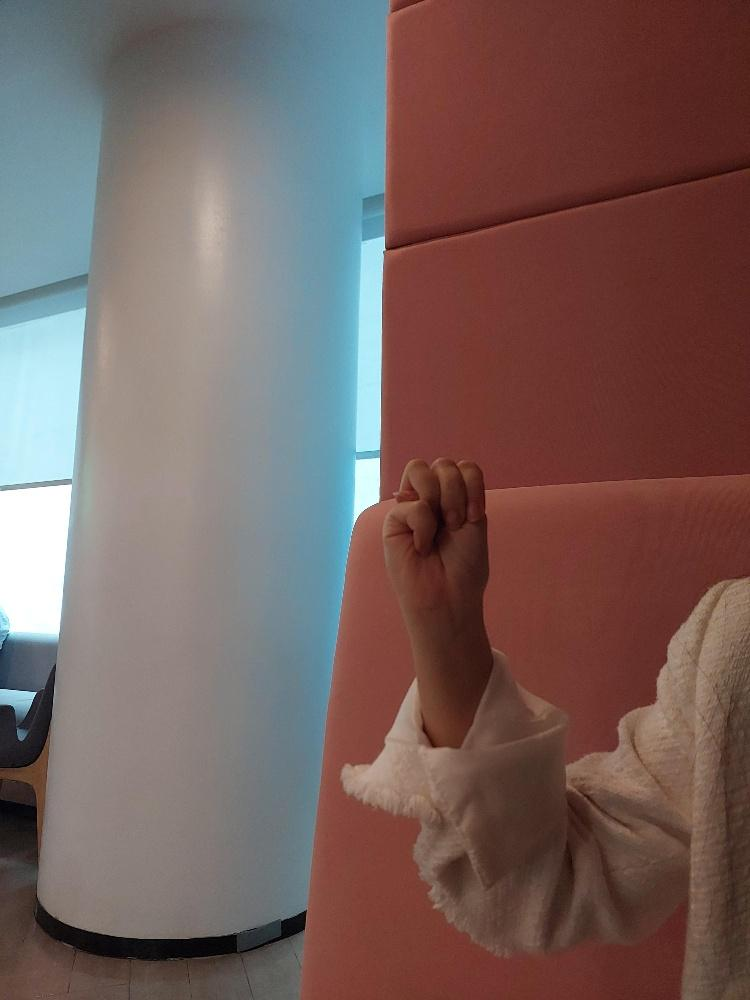m: (381, 455, 489, 596)
